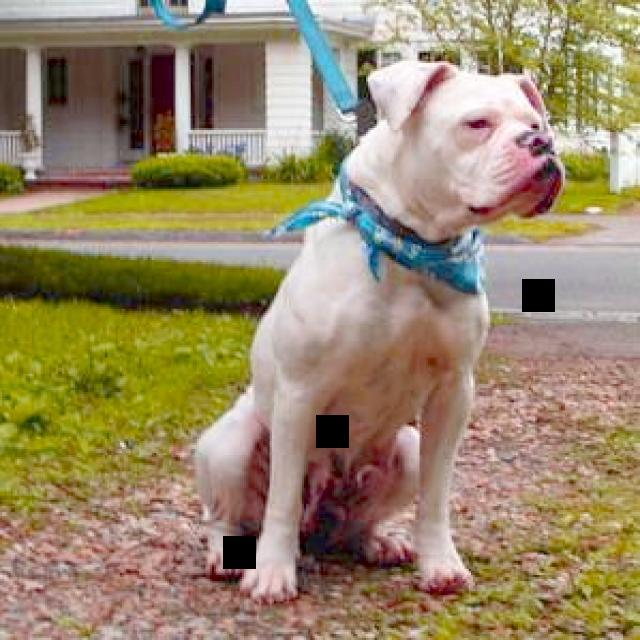adult_dog: (188, 48, 567, 606)
